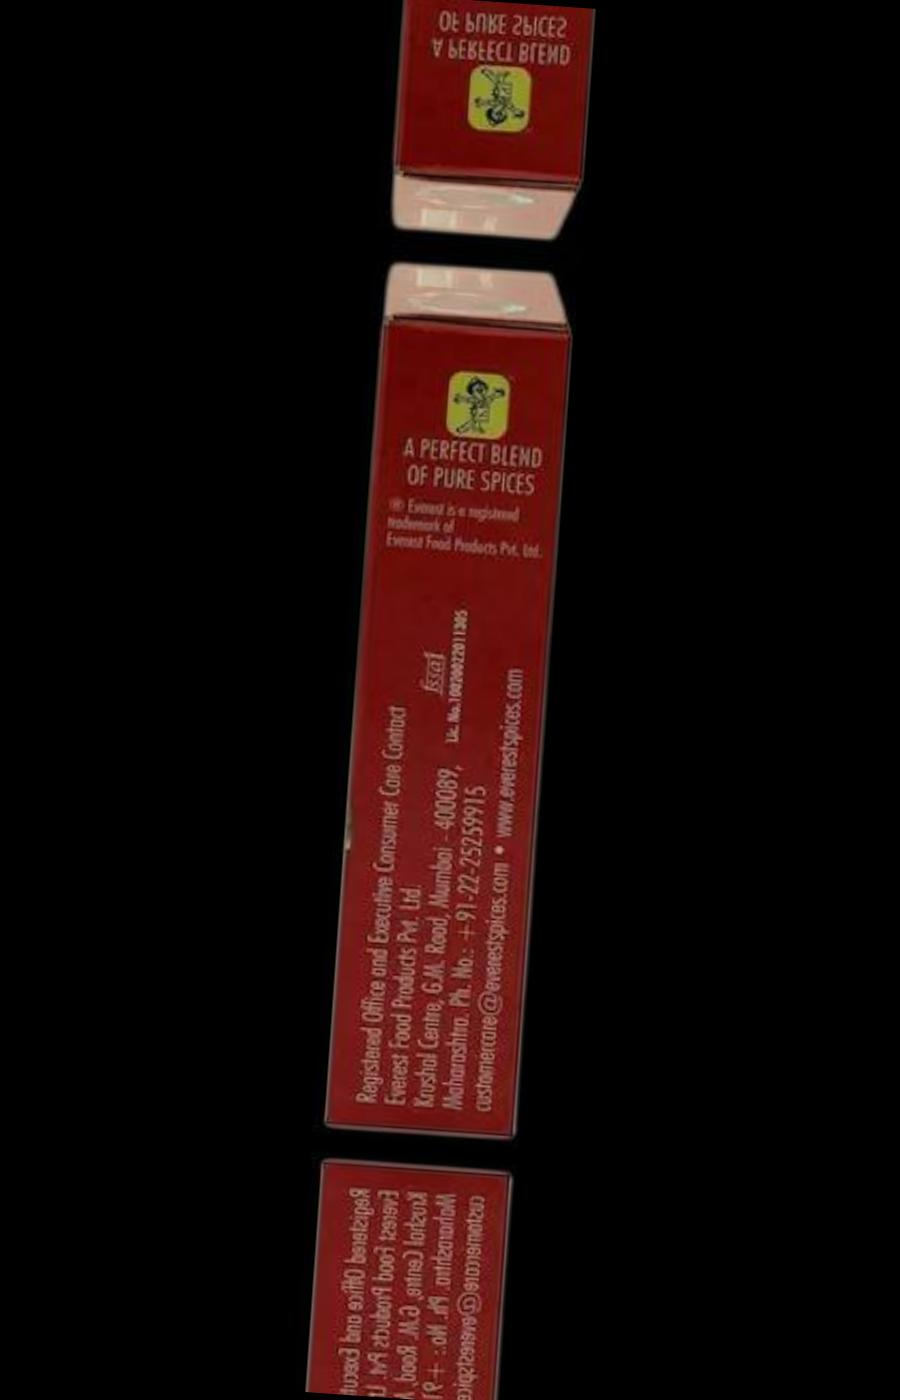Everest Chicken Masala 100 g: (309, 243, 586, 1147), (371, 0, 602, 258), (291, 1150, 521, 1400)
